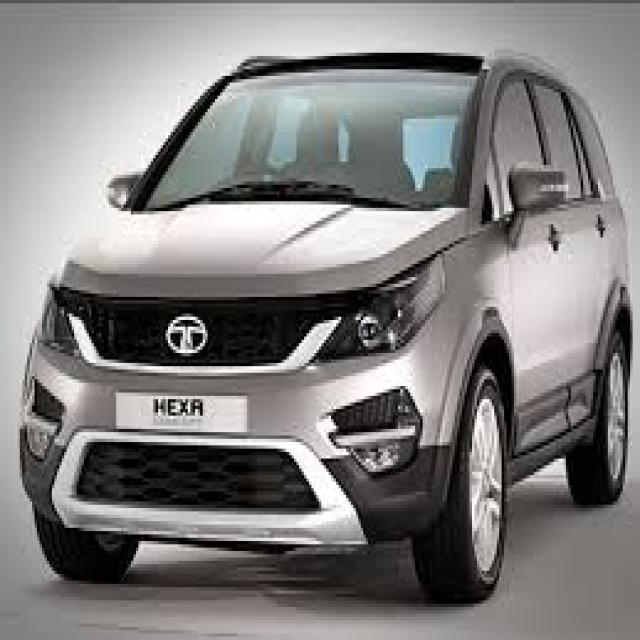car: (10, 38, 636, 610)
